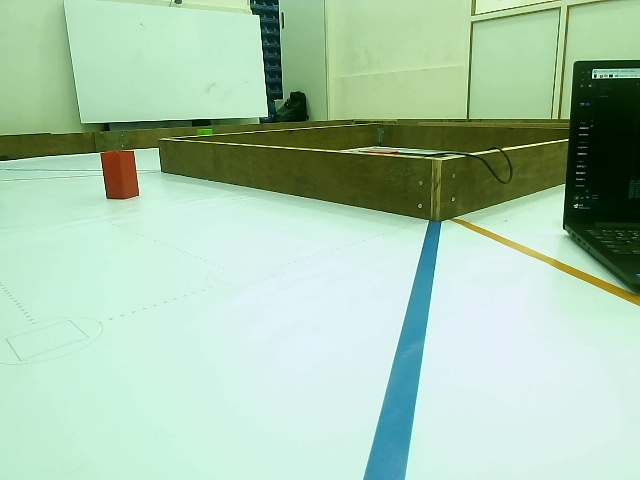red: (101, 153, 141, 198)
